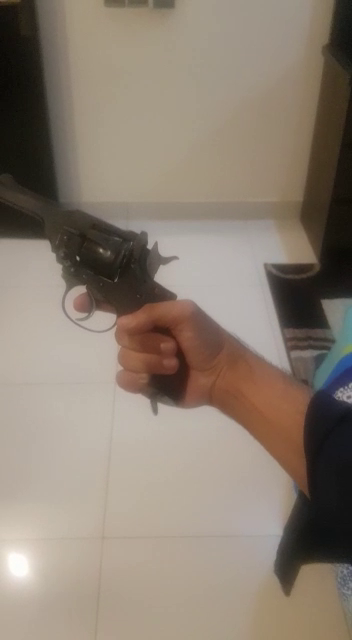handgun: (1, 149, 175, 349)
